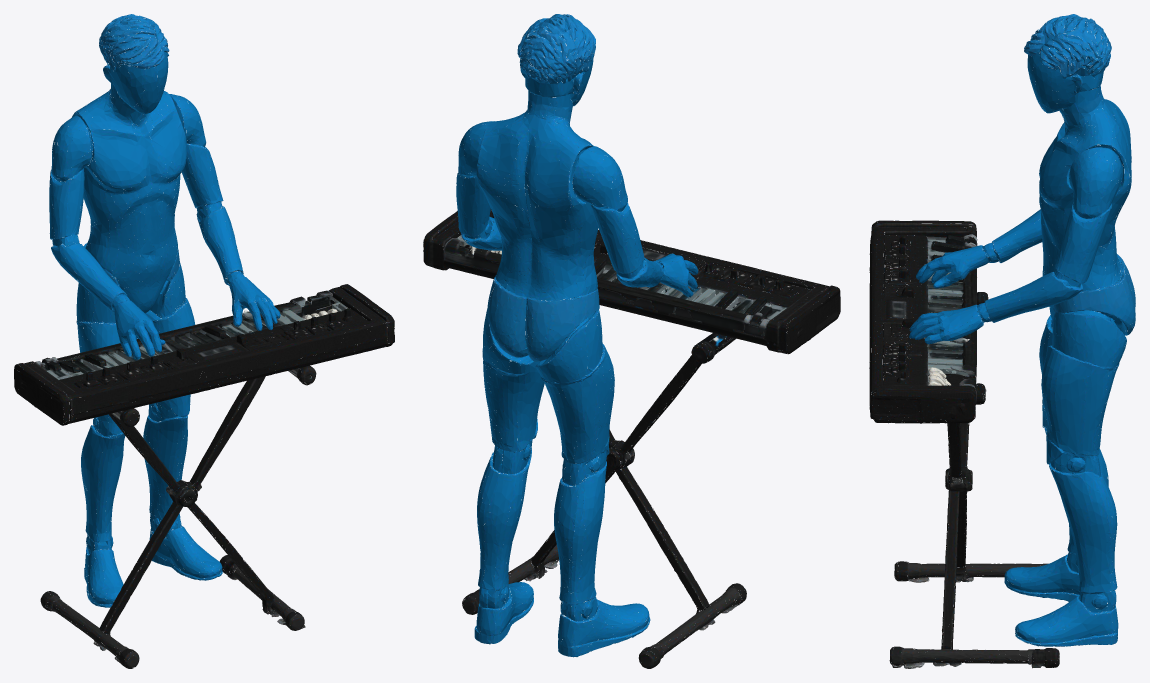
Rendered from fig_keys.glb.
3 renders of one model, left to right at view 1: azimuth 30°, elevation 25°; view 2: azimuth 150°, elevation 25°; view 3: azimuth 270°, elevation 25°, orthographic. The views are drawn at different scales.
Parts seen in each view (by area): view 1: world; view 2: world; view 3: world.
Part boxes in pixels (left/top/right/bottom): world: left=14, top=14, right=394, bottom=668; world: left=423, top=14, right=840, bottom=668; world: left=869, top=14, right=1135, bottom=668.
Bounding box in the file's own units: 0.6164 × 1 × 0.3994.
Materials: 1 (1 with a texture image).
